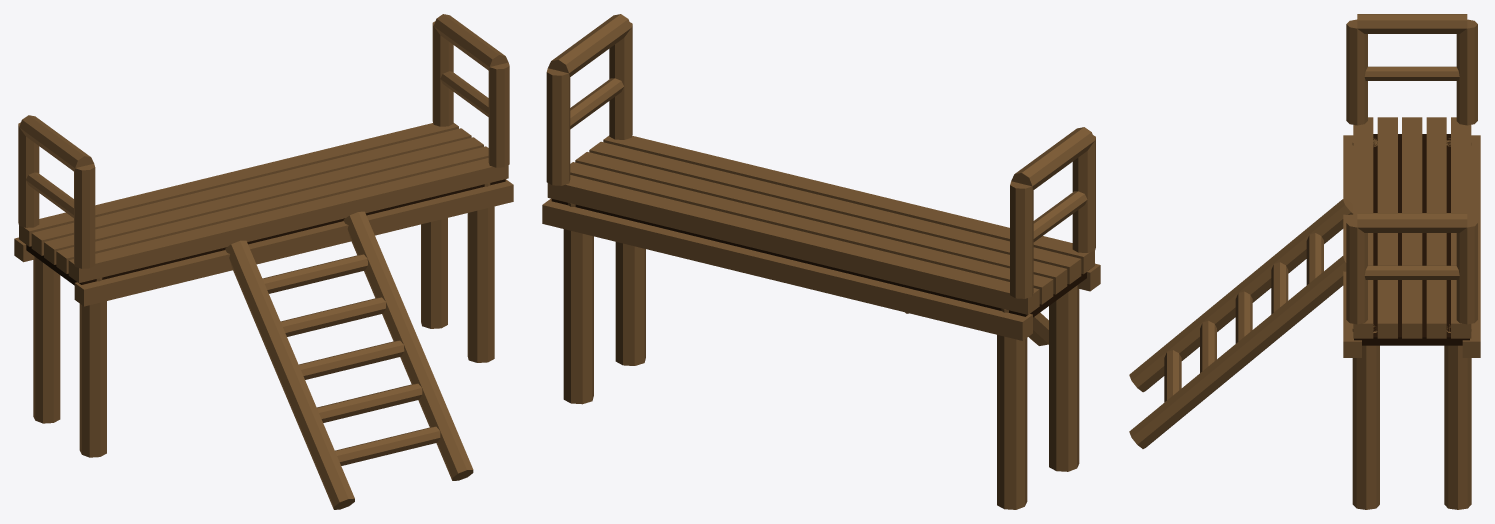
The model's file is gourd-prop-porch.glb.
3 renders of one model, left to right at view 1: azimuth 30°, elevation 25°; view 2: azimuth 150°, elevation 25°; view 3: azimuth 270°, elevation 25°, orthographic. The views are drawn at different scales.
Visible parts, largest first — view 1: porch; view 2: porch; view 3: porch.
Part boxes in pixels (<box>): porch: <box>14,14,513,509</box>; porch: <box>542,14,1100,509</box>; porch: <box>1129,14,1480,509</box>.
Size of the model in its own units: 0.1612 by 0.1105 by 0.1151.
